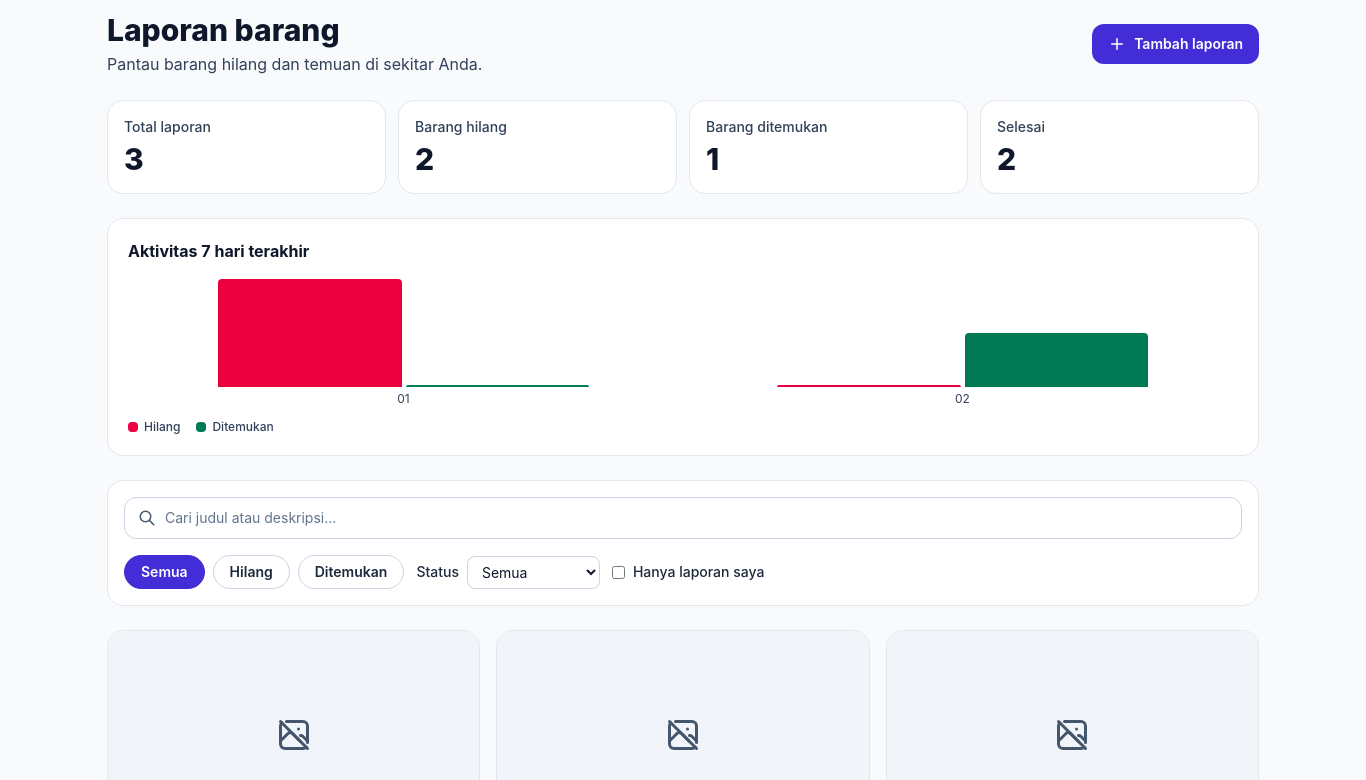
Scenario: HomePage › memfilter berdasarkan jenis, status selesai, dan kata kunci
Click the button "Hilang". click: (251, 572)
box: [213,555,290,589]
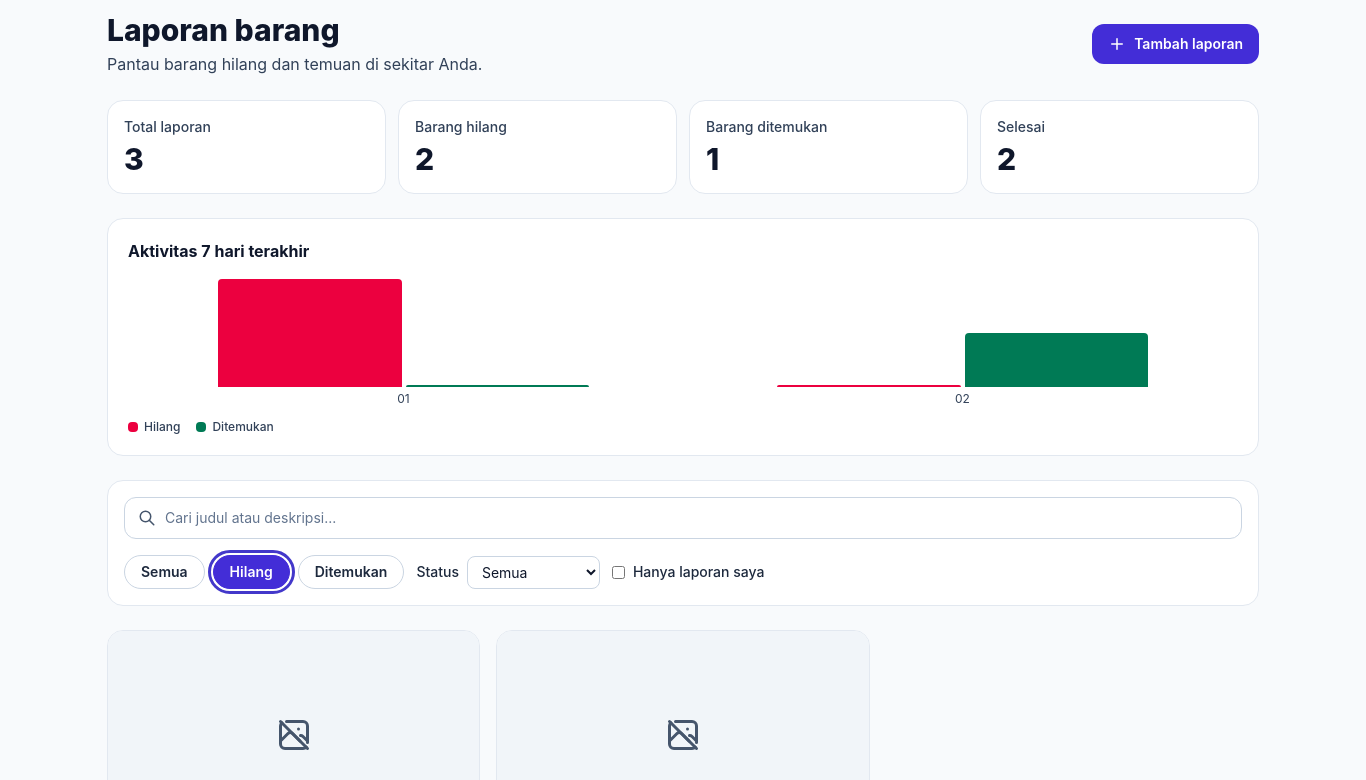
Check: the link "Kunci" is not shown
Check: the button "Hilang" is pressed, box [213,555,290,589]
Select "Selesai" in the dropdown labelled "Status". click: (533, 572)
box: [467,556,600,588]
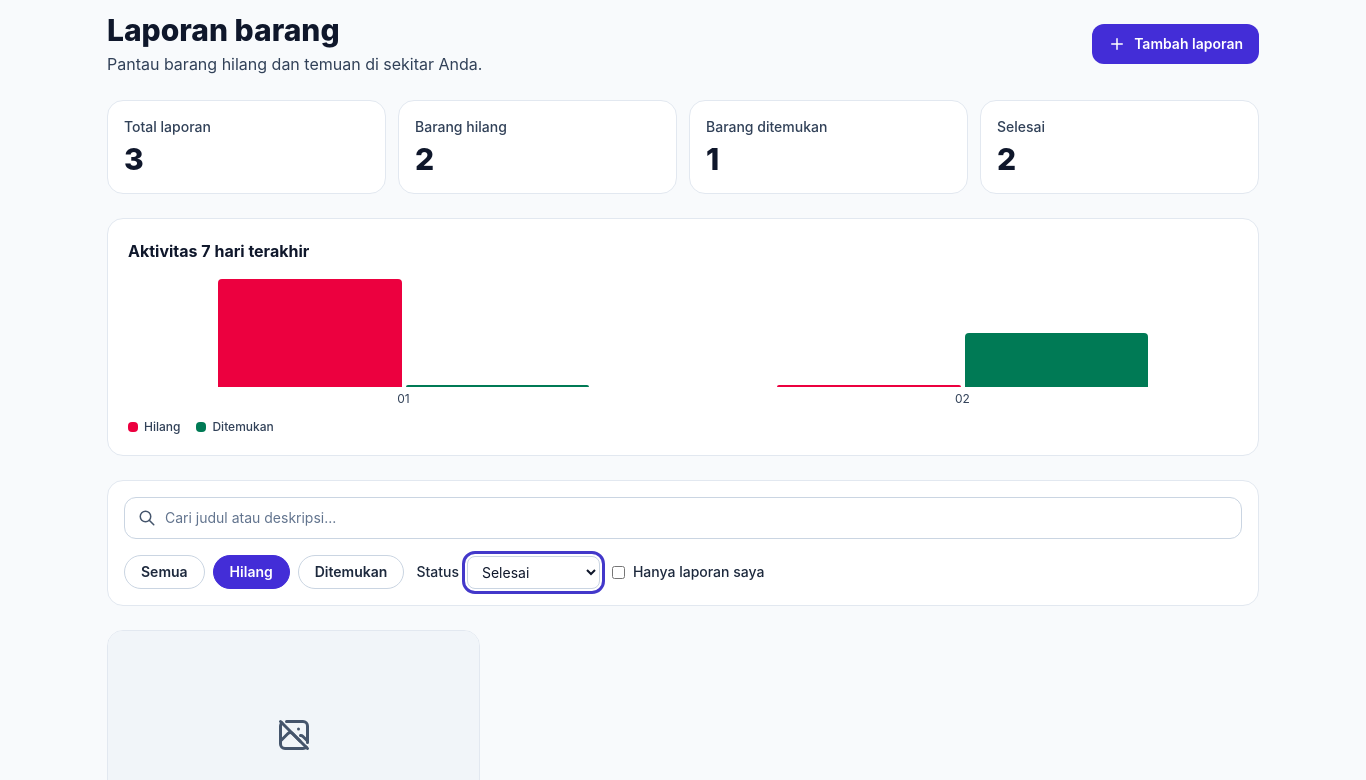
Select "Belum selesai" in the dropdown labelled "Status". click: (533, 572)
box: [467,556,600,588]
Click the button "Semua". click: (164, 572)
box: [124,555,205,589]
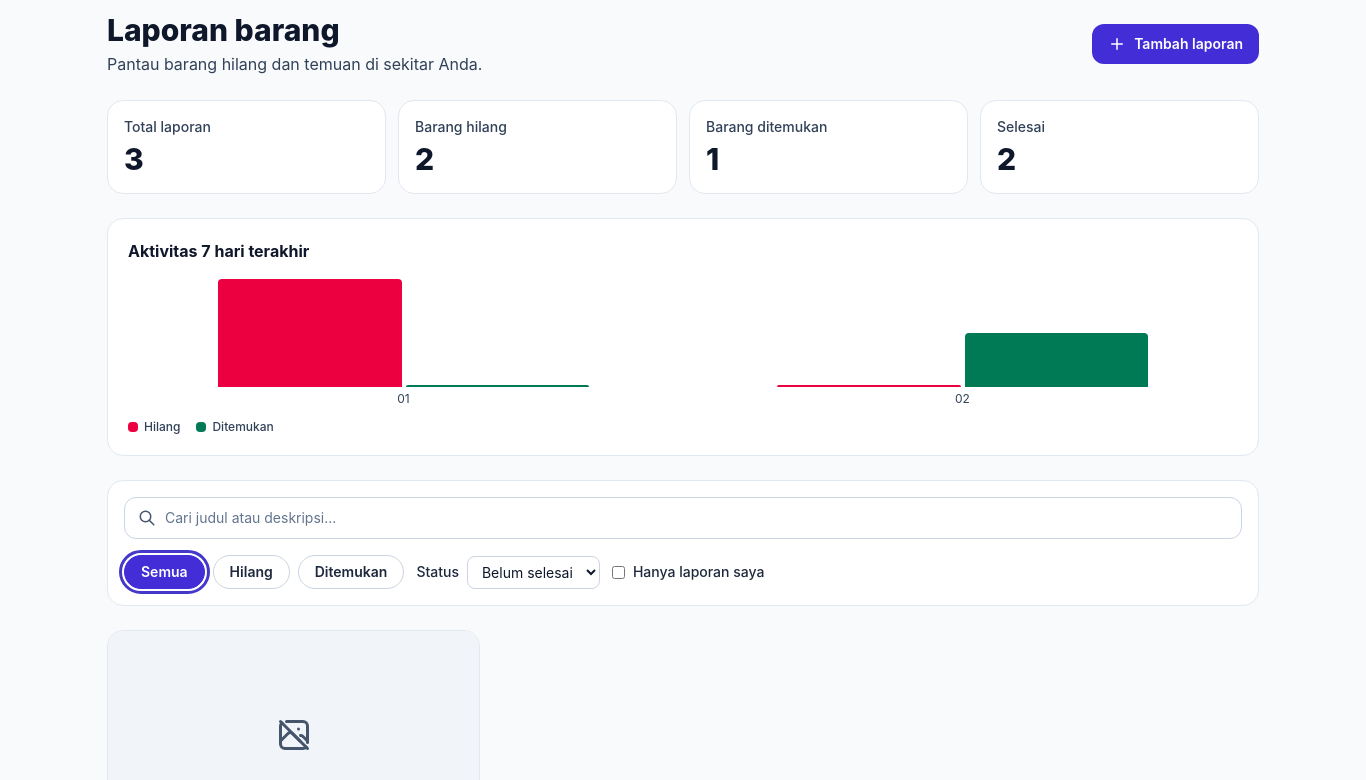
Select "Semua" in the dropdown labelled "Status". click: (533, 572)
box: [467,556,600,588]
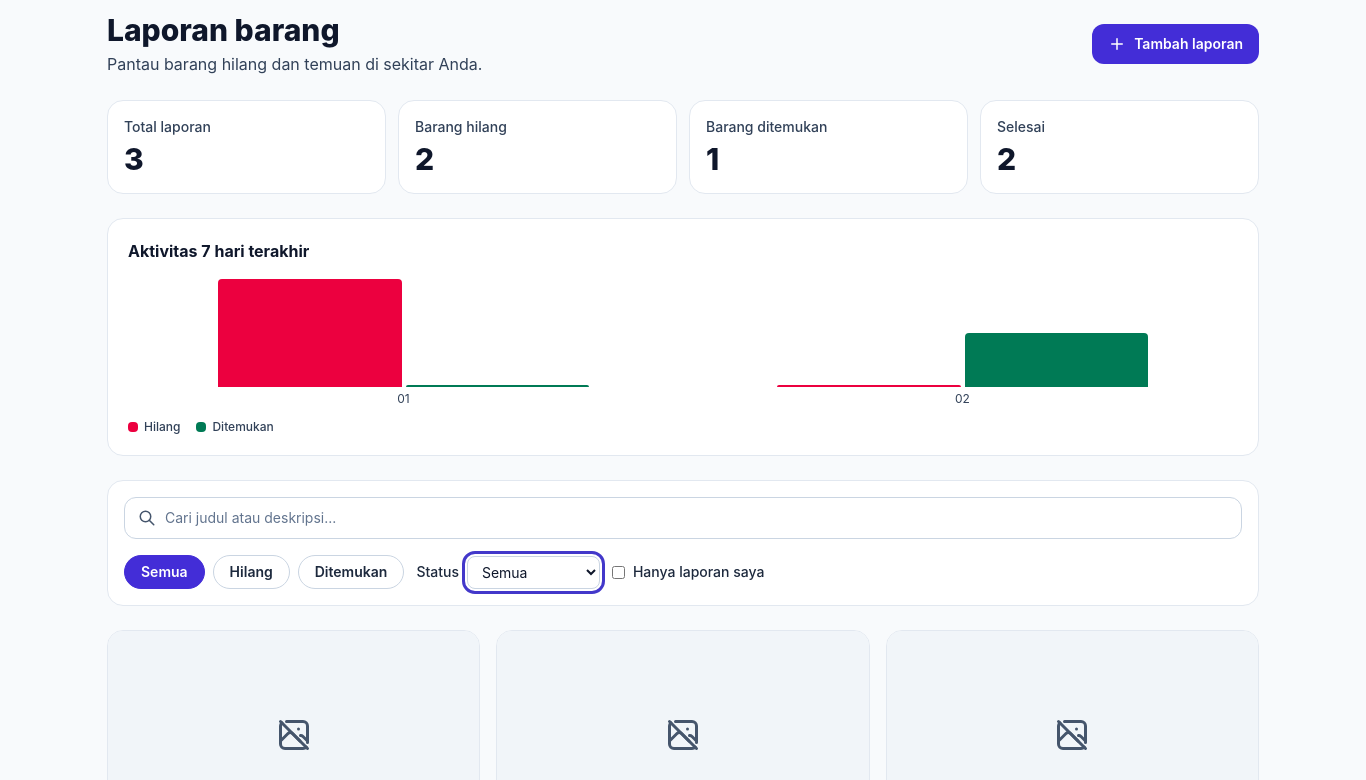
Type "kunci" into the search field named "Cari laporan". click: (683, 518)
box: [124,497,1242,539]
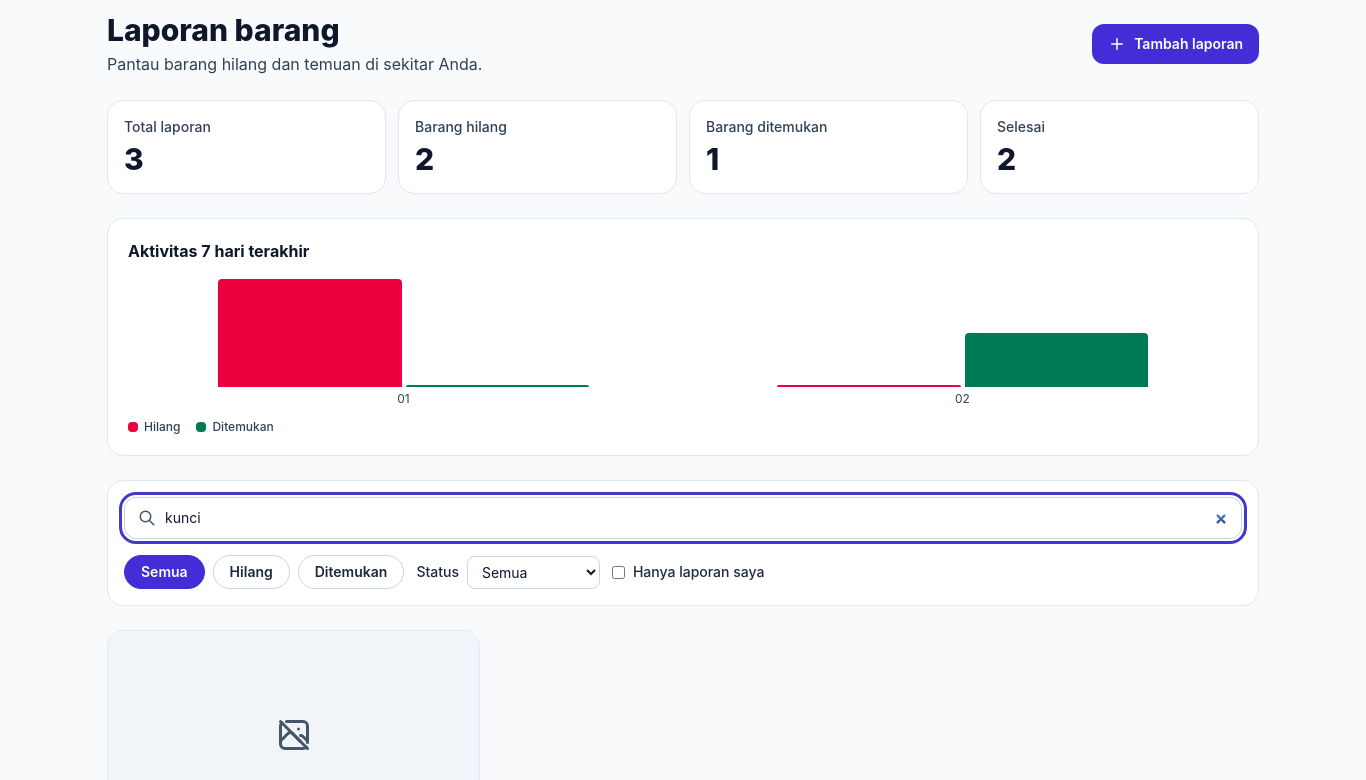
Replace the text in the search field named "Cari laporan" with "tidak-ada". click: (683, 518)
box: [124,497,1242,539]
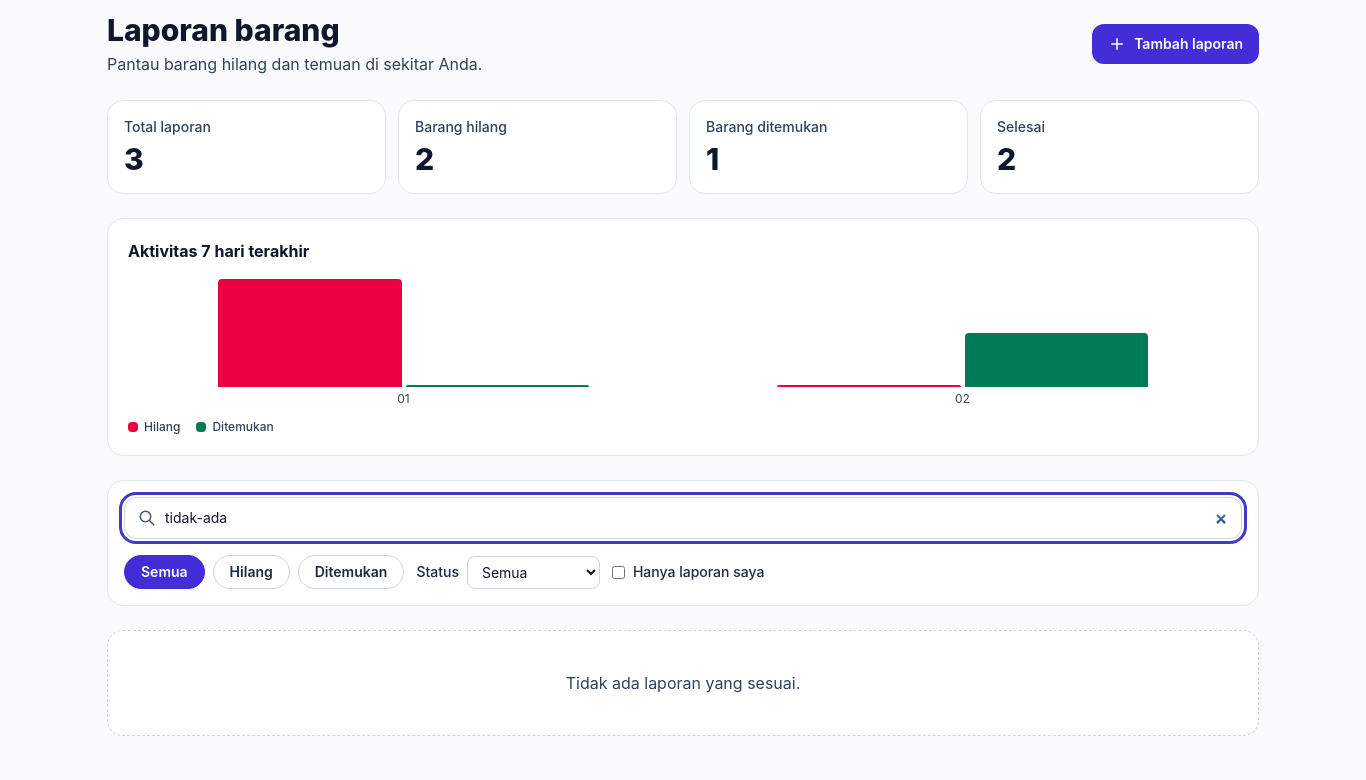
Check: the text "Tidak ada laporan yang sesuai." is shown, box [107,630,1259,736]
